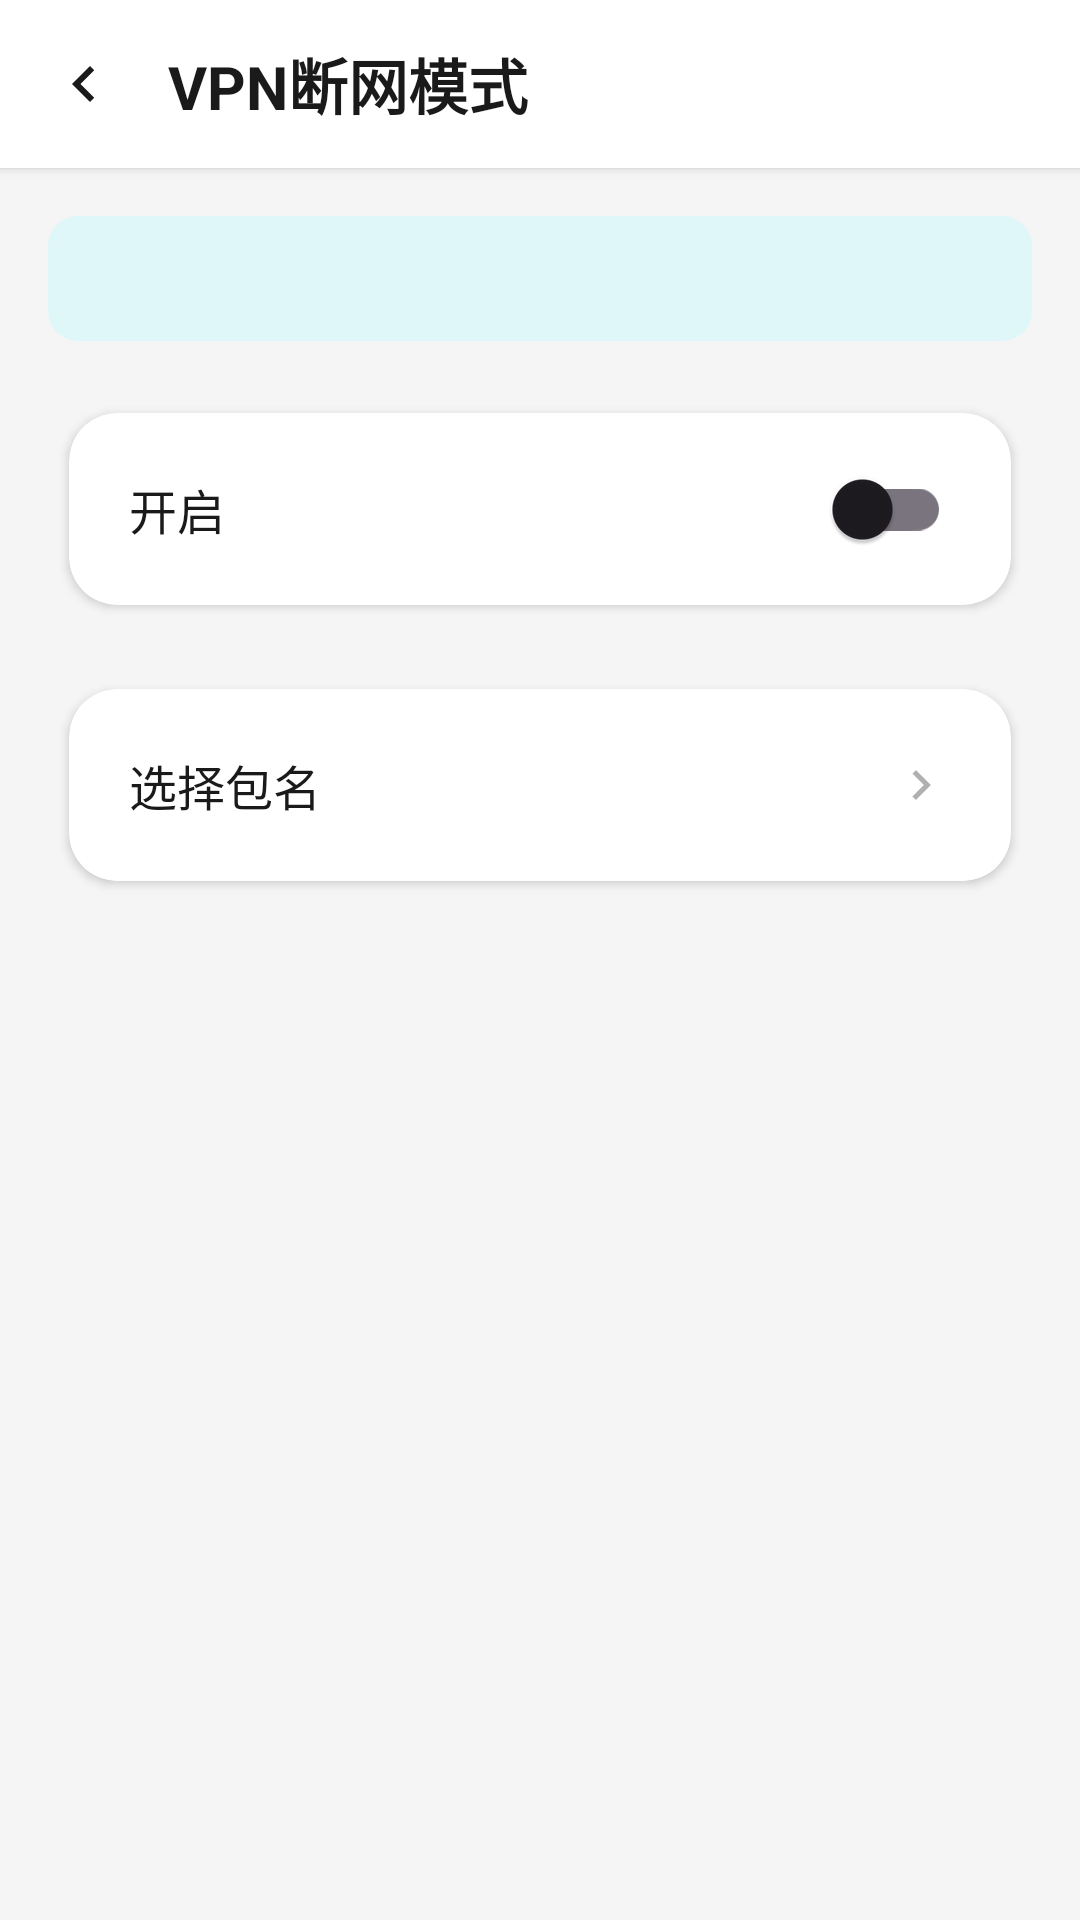

Icon bounding boxes for this 1080 x 1920 phone screenshot, format (x1, y1, x2, y2):
返回: (72, 66, 94, 102)
